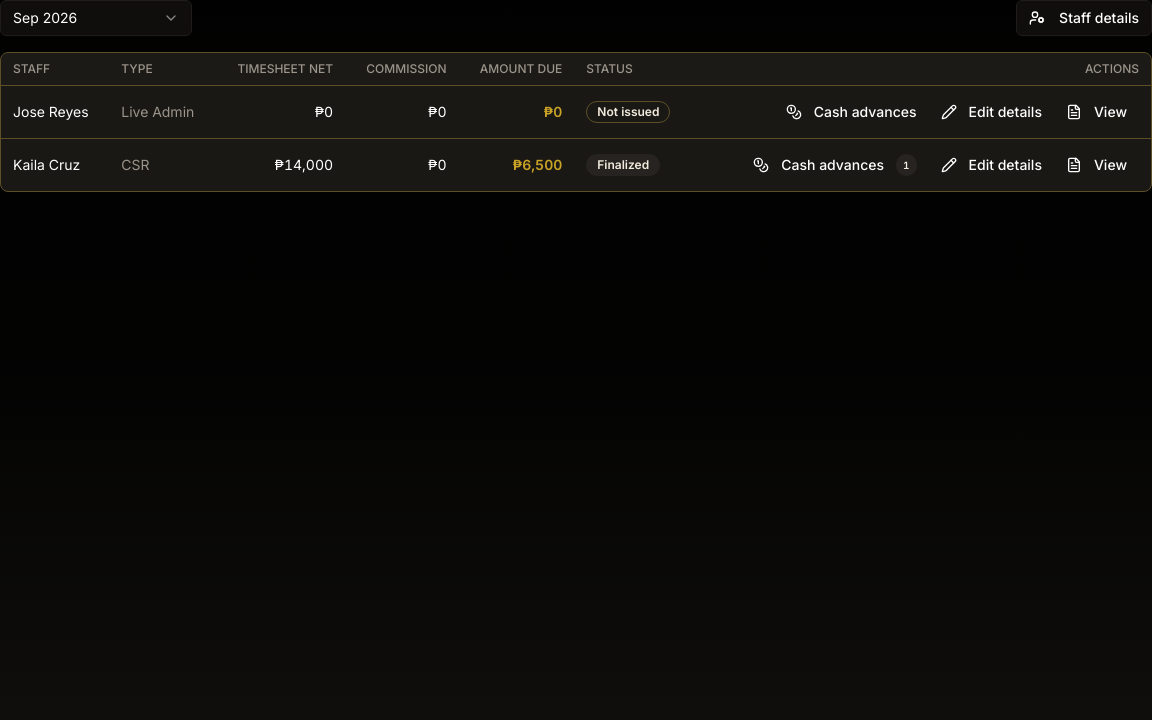
Test case: Payslips tab — cash advances, employee ID, cash bond › Record payment pre-fills the AMOUNT DUE and its yen
Click the button "View" in the row of "Kaila Cruz" at (1096, 165), box [1054,147,1139,183]
(page scrolled)
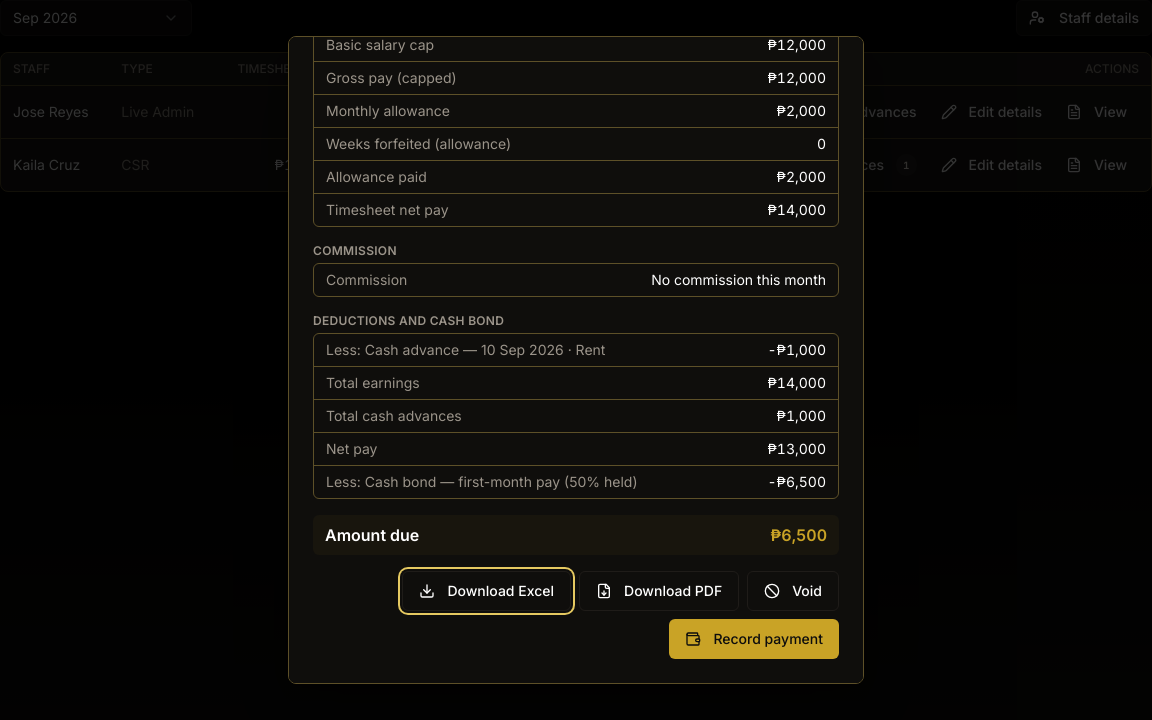
Result: the element with test id "payslip-amount-due" reads "Amount due ₱6,500" at [313,515,839,555]
Click the button "Record payment" at (754, 639), box [669,619,839,659]
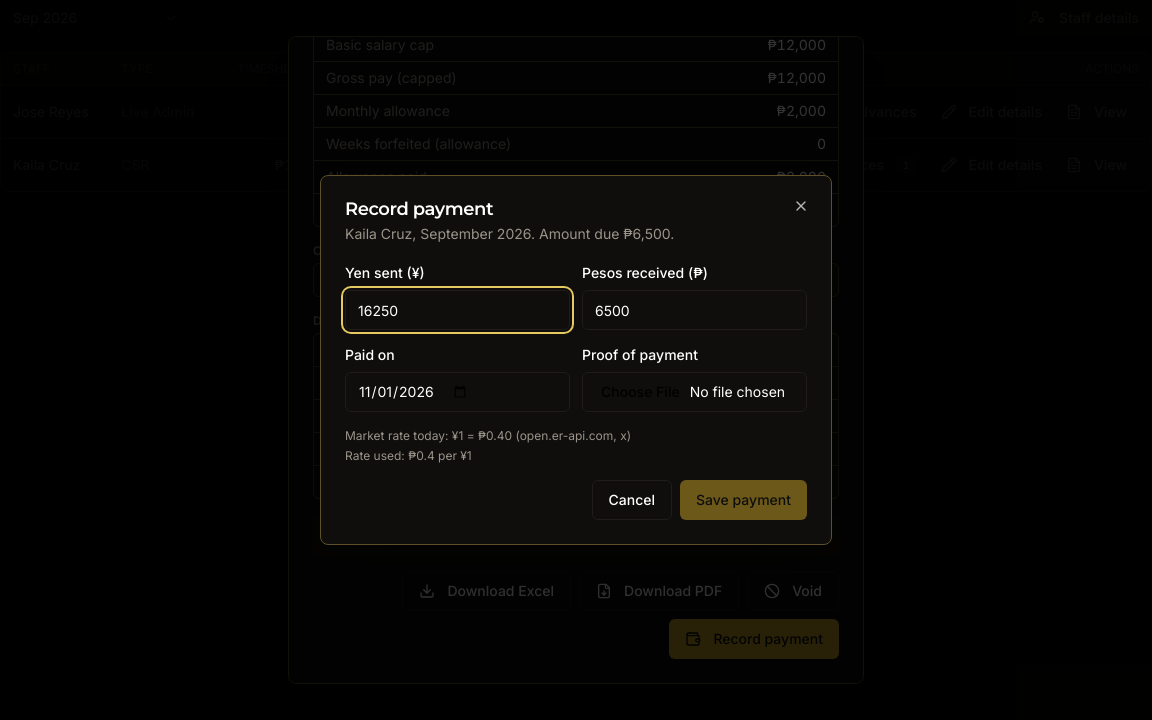
Result: the field labelled "Yen sent (¥)" holds "16250" at [345,290,570,330]
Result: the field labelled "Pesos received (₱)" holds "6500"
Replace the text in the field labelled "Pesos received (₱)" with "6400" at (694, 310), box [582,290,807,330]
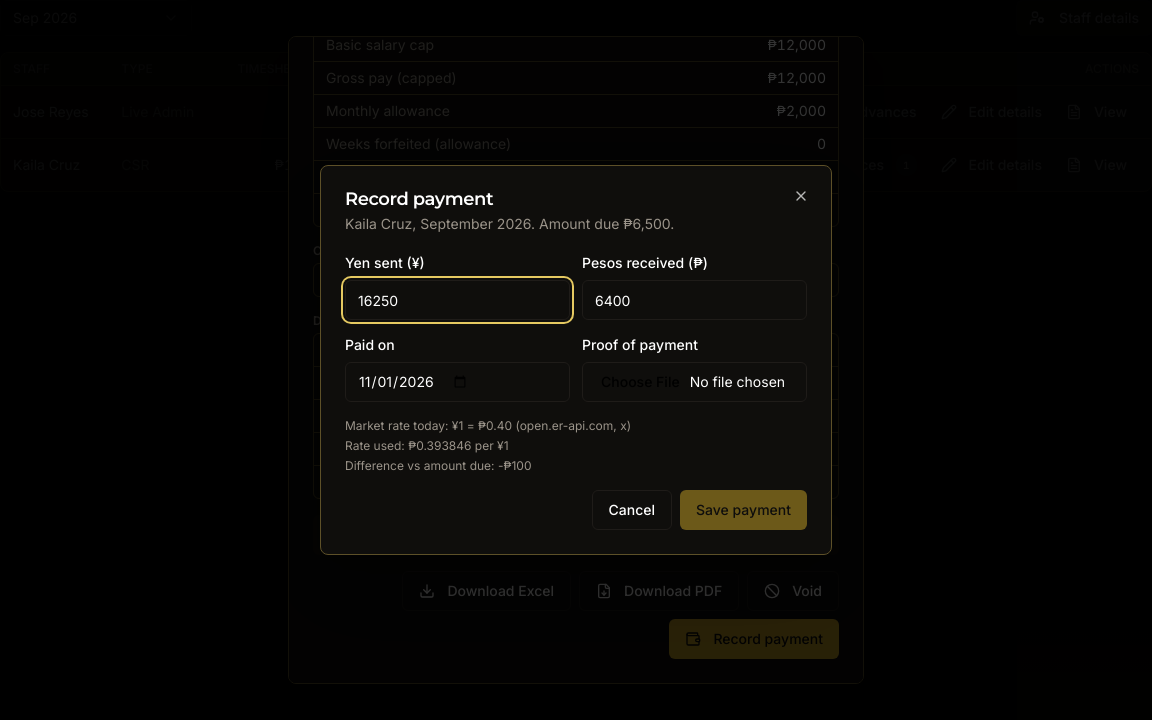
Result: the text "Difference vs amount due: -₱100" is shown at [345,458,532,473]
